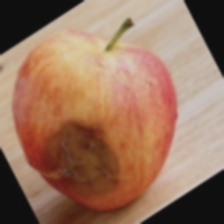apple: (35, 28, 205, 196)
